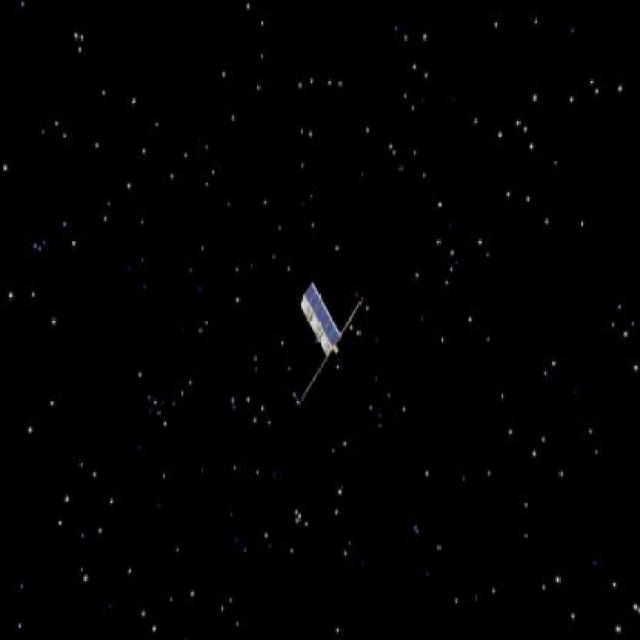medium_debris: (288, 273, 377, 408)
